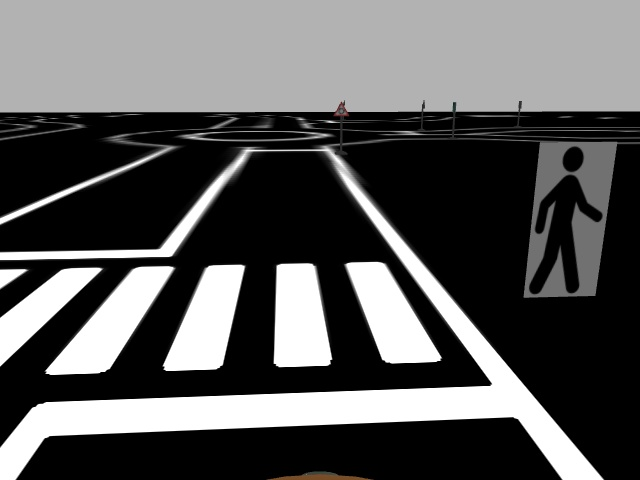pedestrian: (521, 139, 619, 299)
